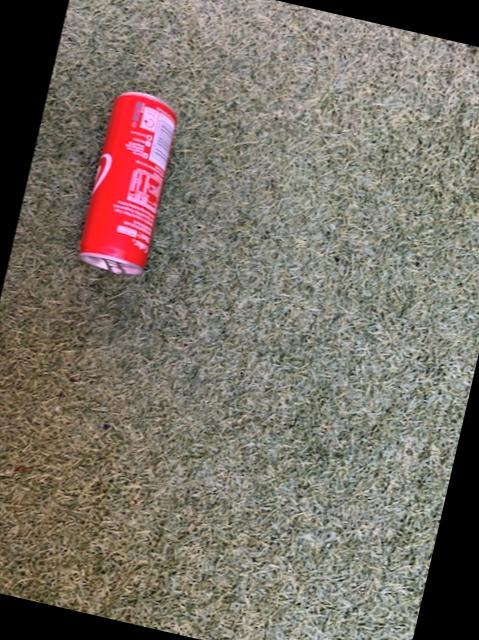metal: (77, 90, 174, 272)
